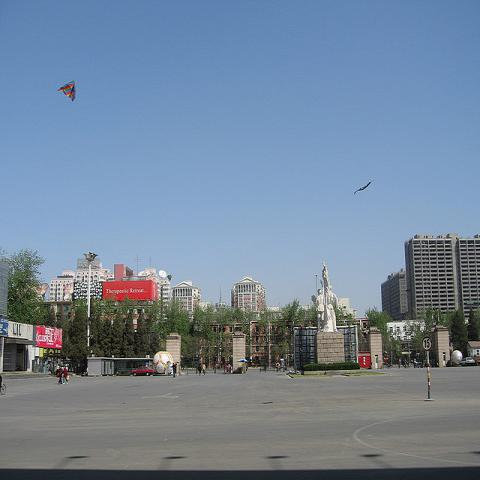car: (130, 366, 154, 376), (460, 357, 475, 366)
